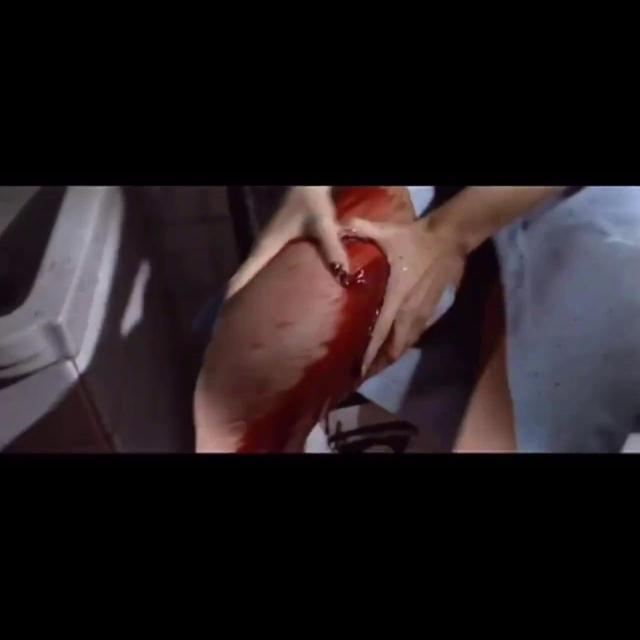blood: (238, 236, 390, 453), (333, 187, 414, 222)
